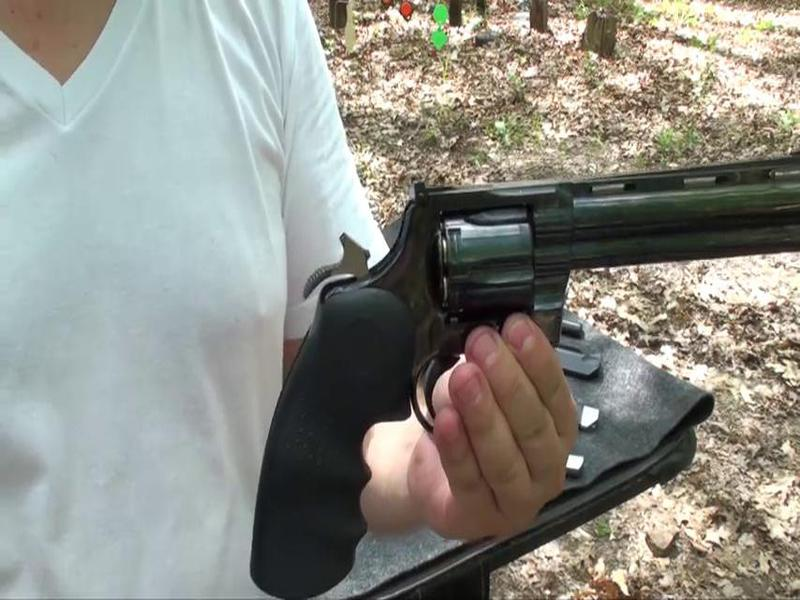Revolver: (233, 142, 799, 463)
